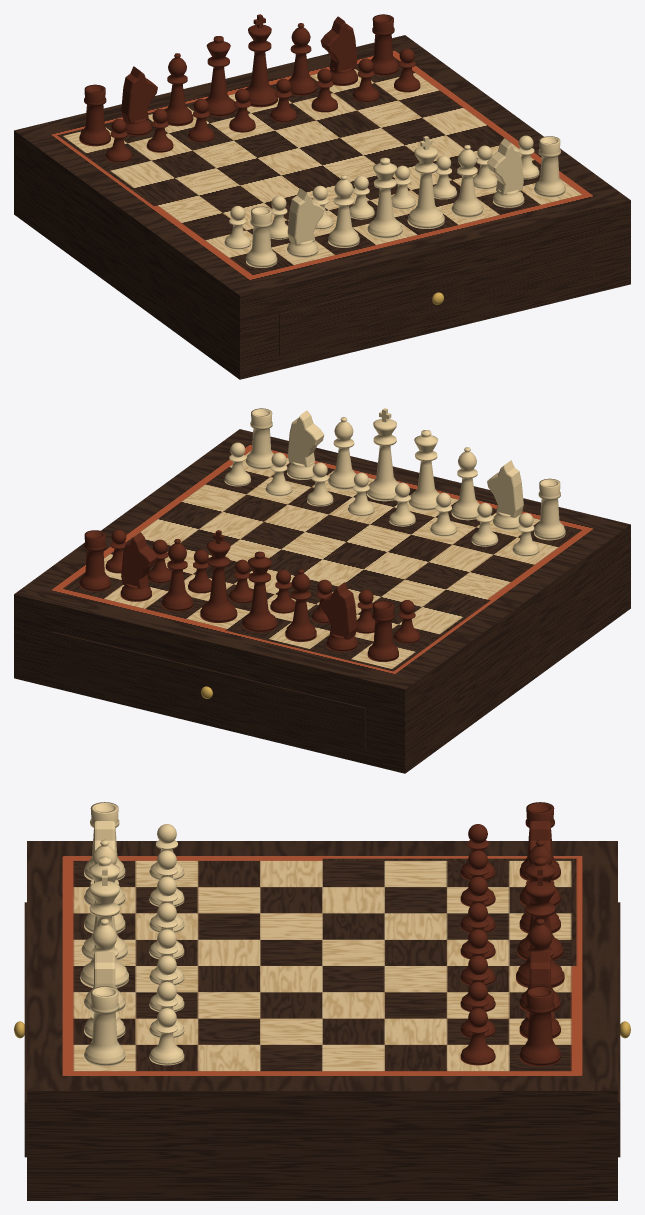
File: philidor-3d-noyer-erable-38.glb
3 renders of one model, top to bottom at view 1: azimuth 30°, elevation 25°; view 2: azimuth 150°, elevation 25°; view 3: azimuth 270°, elevation 25°, orthographic. The views are drawn at different scales.
Parts seen in each view (by area): view 1: noyer-erable-38; view 2: noyer-erable-38; view 3: noyer-erable-38.
Boxes of the visible parts, <box> form: noyer-erable-38: <box>14,14,630,379</box>; noyer-erable-38: <box>14,408,630,773</box>; noyer-erable-38: <box>14,802,630,1200</box>.
Size of what is drawn, in the model's own units: 0.38 by 0.156 by 0.3967.
6 materials, 3 textured.
